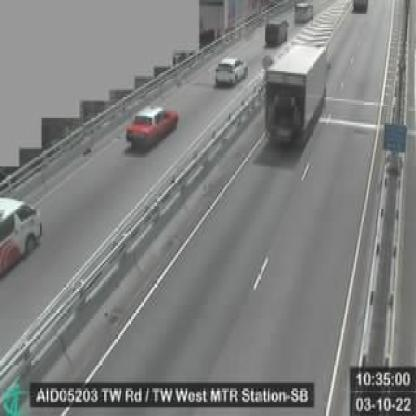Car: (128, 102, 180, 149), (216, 55, 246, 85)
Truck: (266, 43, 326, 144), (262, 16, 290, 43)
